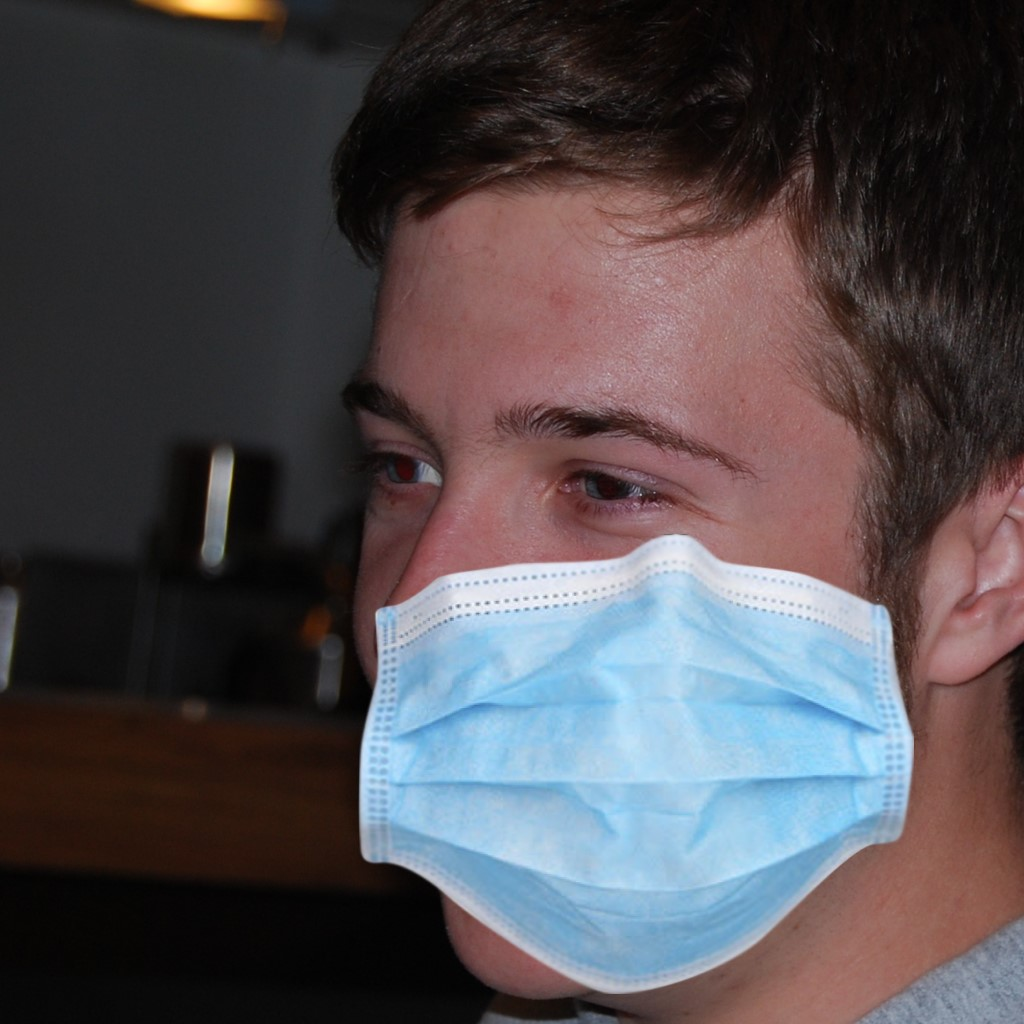con_mascara: (348, 158, 923, 969)
